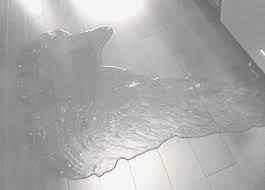Wet-floor: (15, 43, 265, 177), (21, 27, 142, 91)
